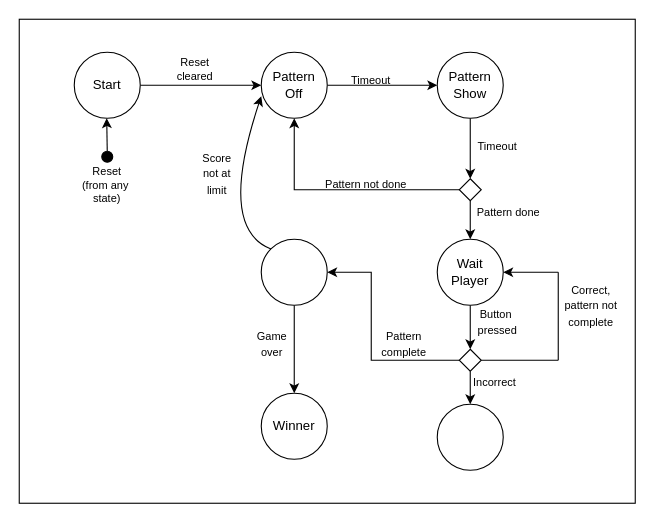
This 655x523 diagram has some shape labels left out. The centre of each missing label's shape, as x and y in pixels:
Incr Score: (x=293, y=271)
Loser: (x=469, y=436)
